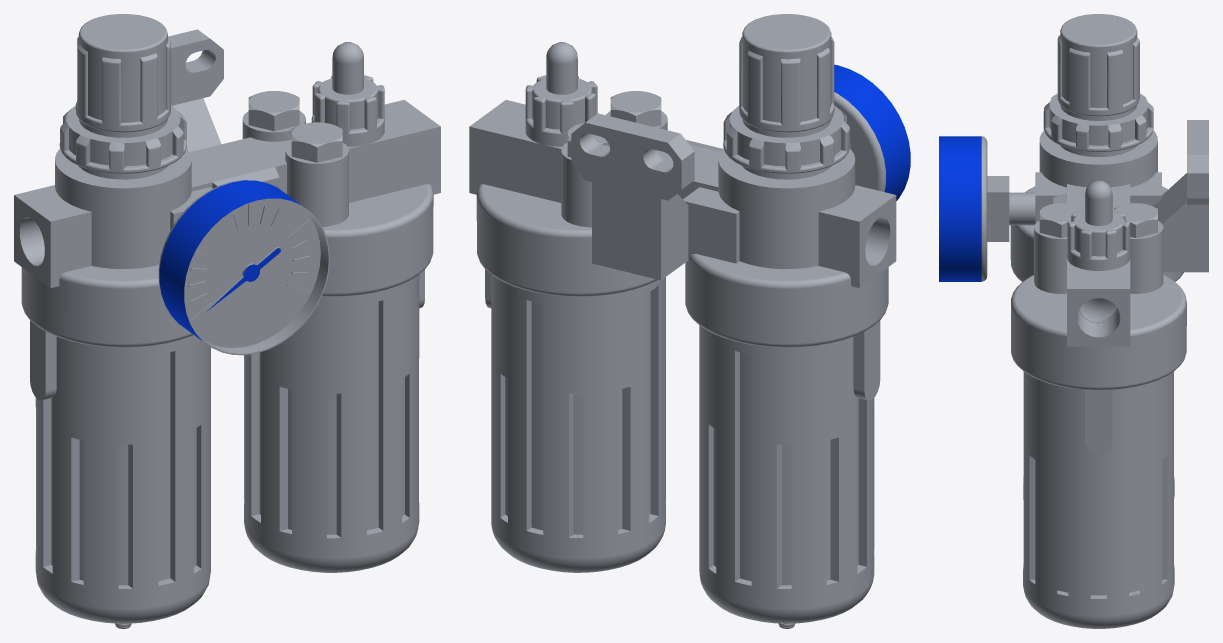
File: BFC系列空气过滤组.obj
3 renders of one model, left to right at view 1: azimuth 30°, elevation 25°; view 2: azimuth 150°, elevation 25°; view 3: azimuth 270°, elevation 25°, orthographic. The views are drawn at different scales.
Visible parts, largest first — view 1: NONE; view 2: NONE; view 3: NONE.
Part boxes in pixels (bbox=[...]): NONE: bbox=[14, 14, 440, 628]; NONE: bbox=[469, 14, 910, 628]; NONE: bbox=[939, 14, 1208, 628].
Size of the model in its own units: 142 by 206 by 98.
